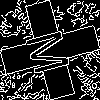M: (25, 25, 80, 77)
